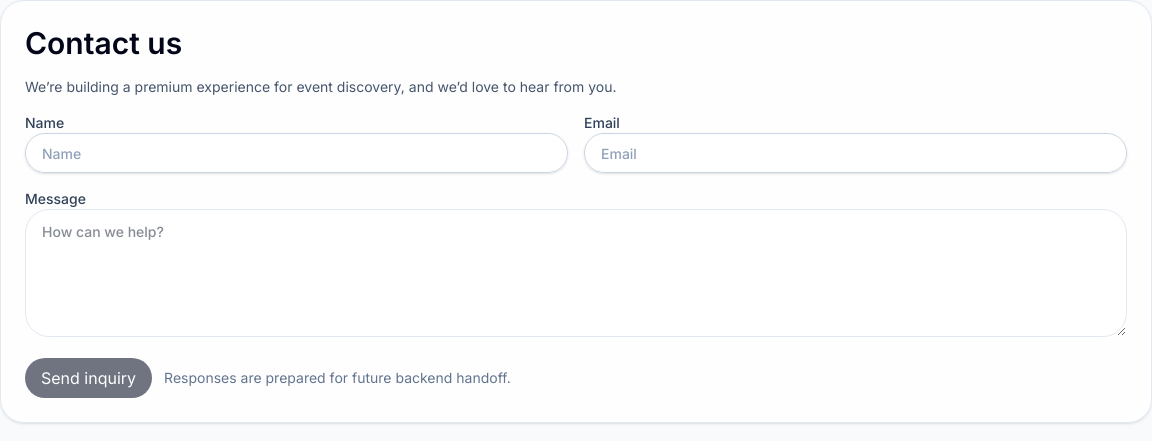
Test: ContactPage › renders the contact form and allows submission
Expected: the heading "Contact us" is shown, 25,25 -> 182,61
Type "Taylor" into the field labelled "Name" at (296, 153), box 25,133 -> 568,173
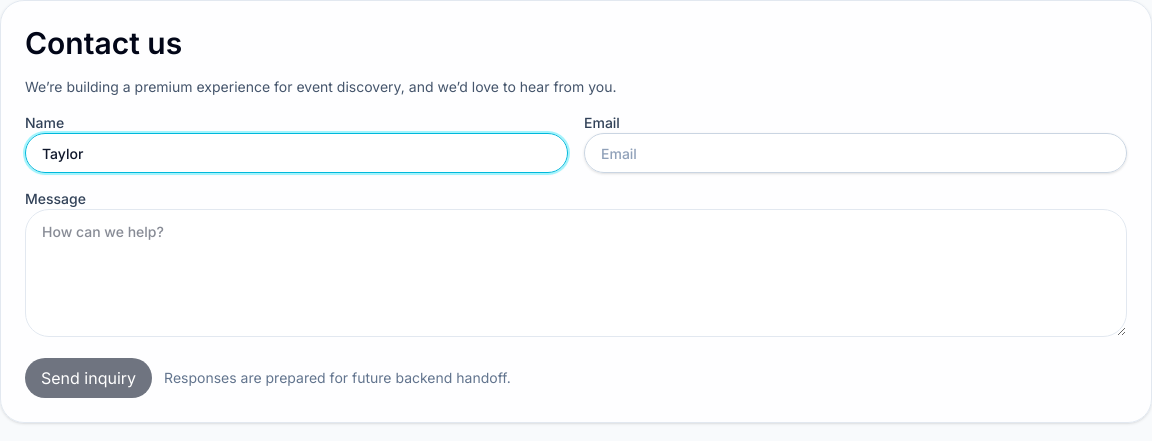
Type "taylor@example.com" into the field labelled "Email" at (856, 153), box 584,133 -> 1127,173
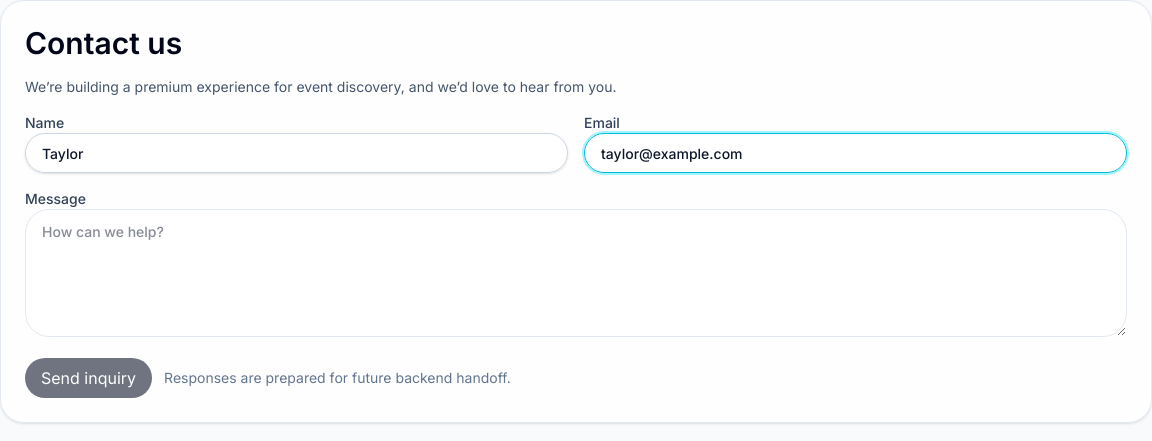
Type "I would like a product demo." into the text box labelled "Message" at (576, 273), box 25,209 -> 1127,337
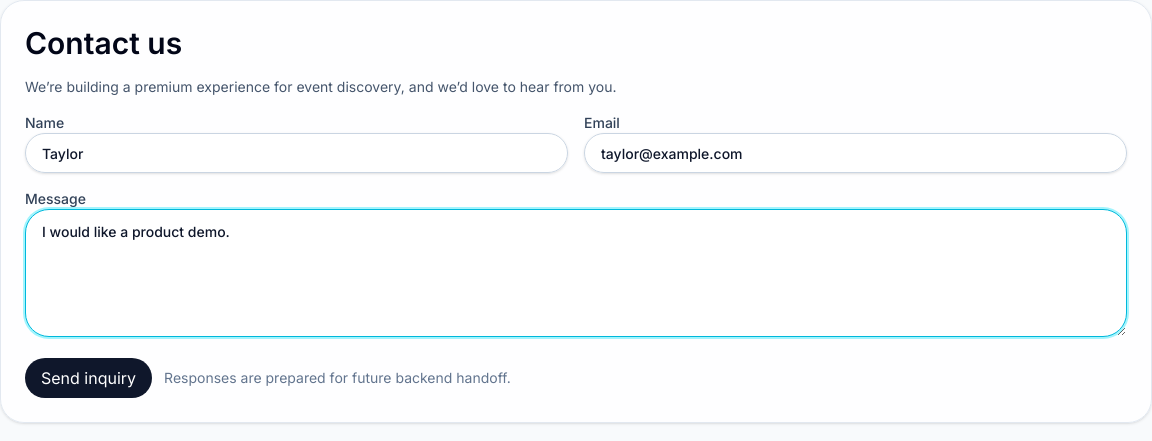
Click the button "Send inquiry" at (89, 378), box 25,358 -> 152,398
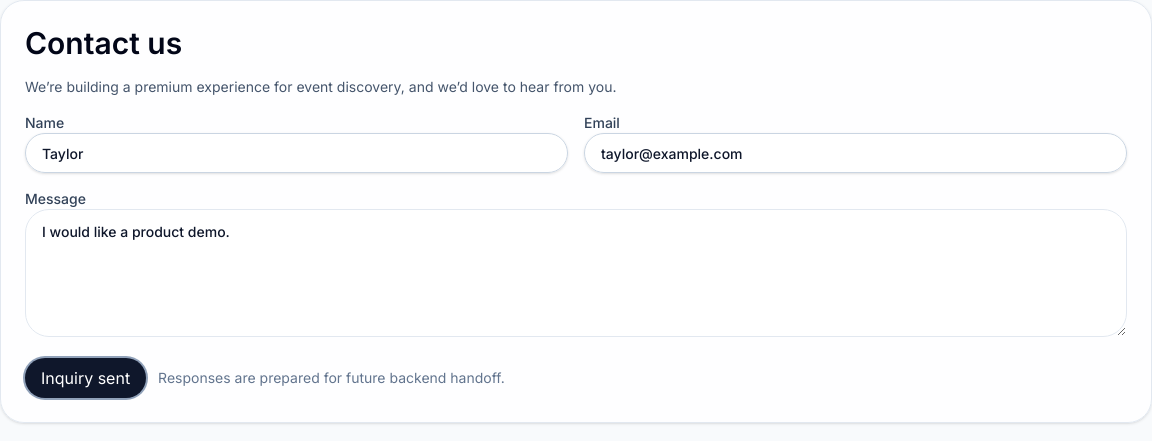
Result: the button "Inquiry sent" is shown at 25,358 -> 146,398
